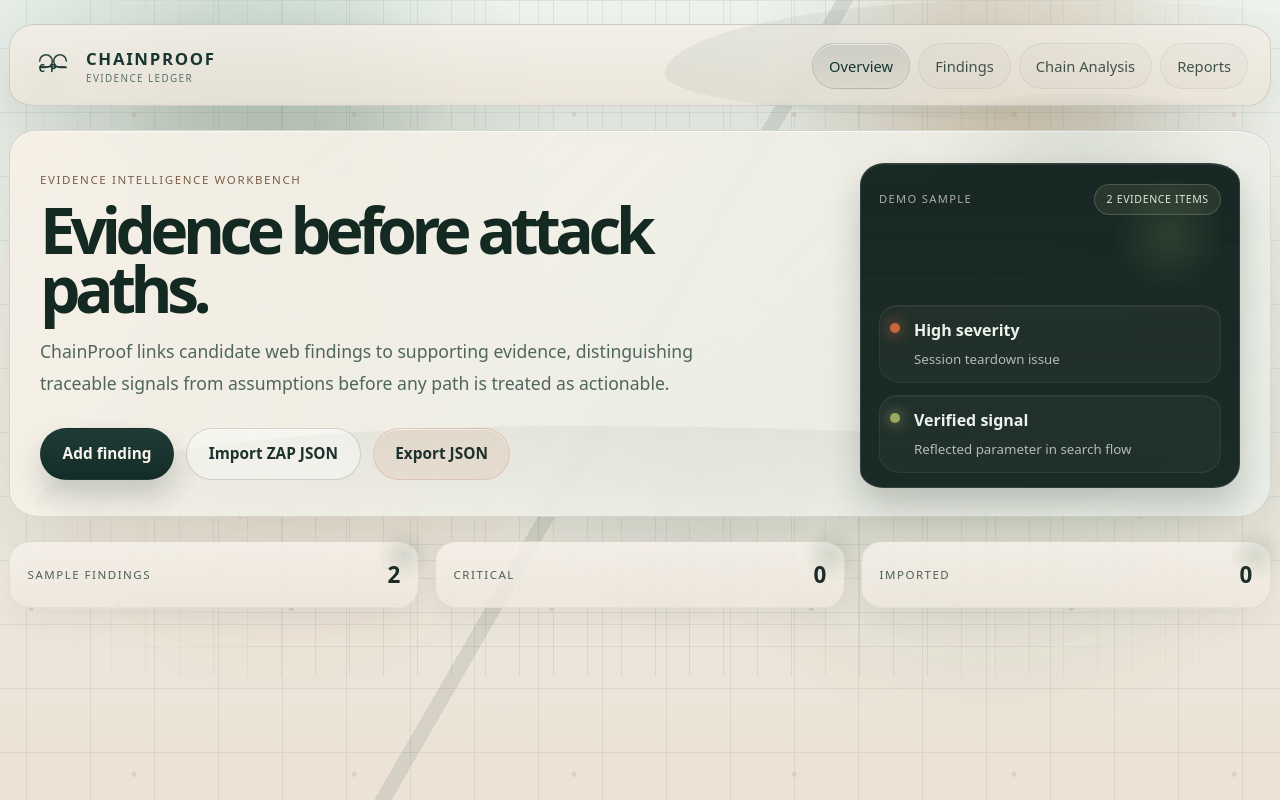
Test: App › adds a new finding to the findings list
Click the button "Add finding".
click(107, 454)  # box x1=40 y1=428 x2=174 y2=480
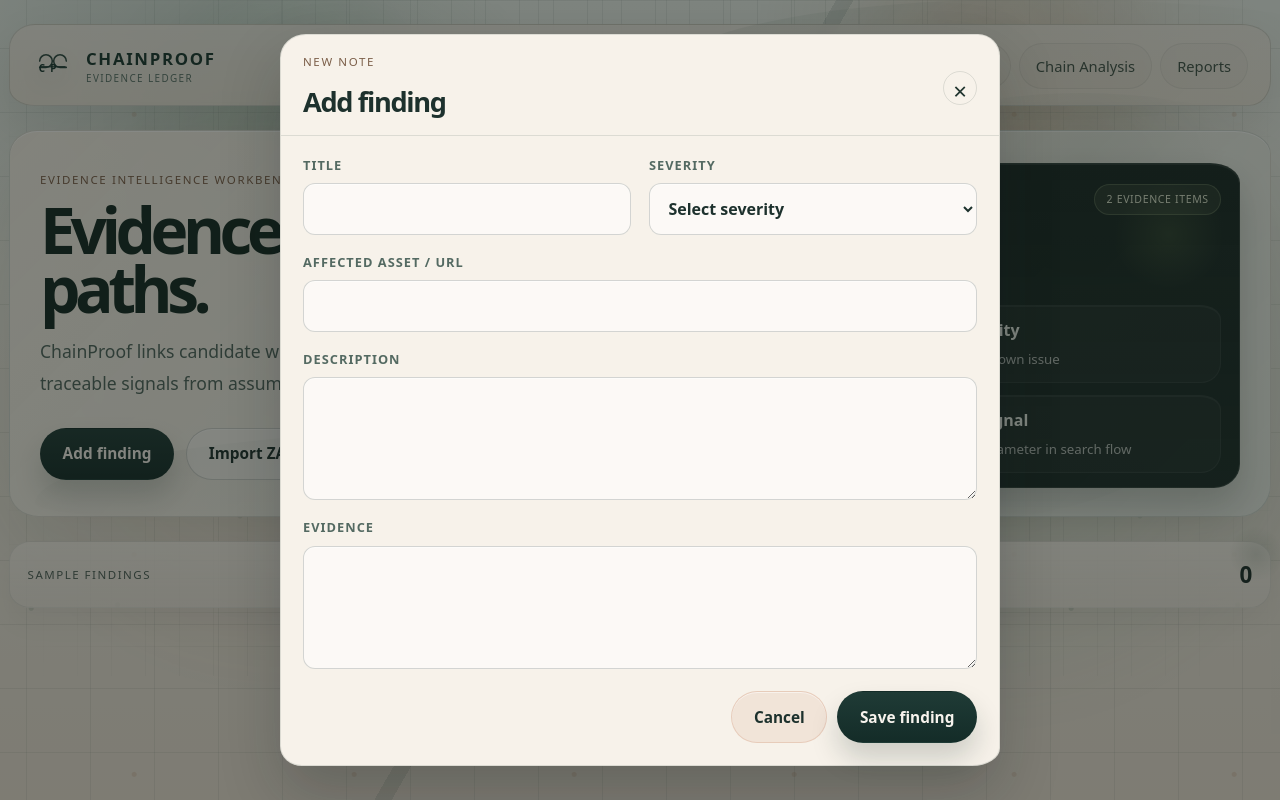
Type "DOM XSS in search" into the field labelled "Title".
click(467, 209); type("DOM XSS in search")  # box x1=303 y1=183 x2=631 y2=235
Select "High" in the dropdown labelled "Severity" at {"x": 813, "y": 209}, box x1=649 y1=183 x2=977 y2=235
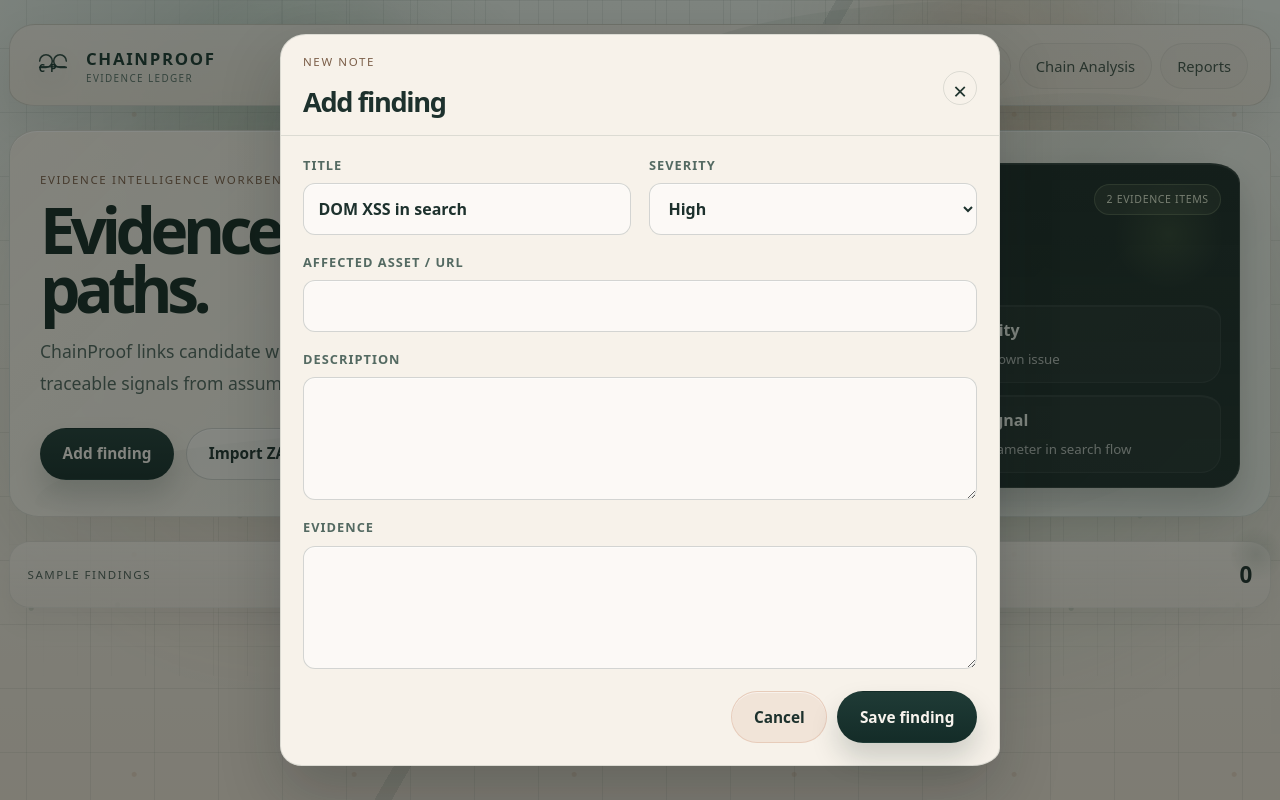
Type "https://app.example.com/search" into the field labelled "Affected asset / URL".
click(640, 306); type("https://app.example.com/search")  # box x1=303 y1=280 x2=977 y2=332
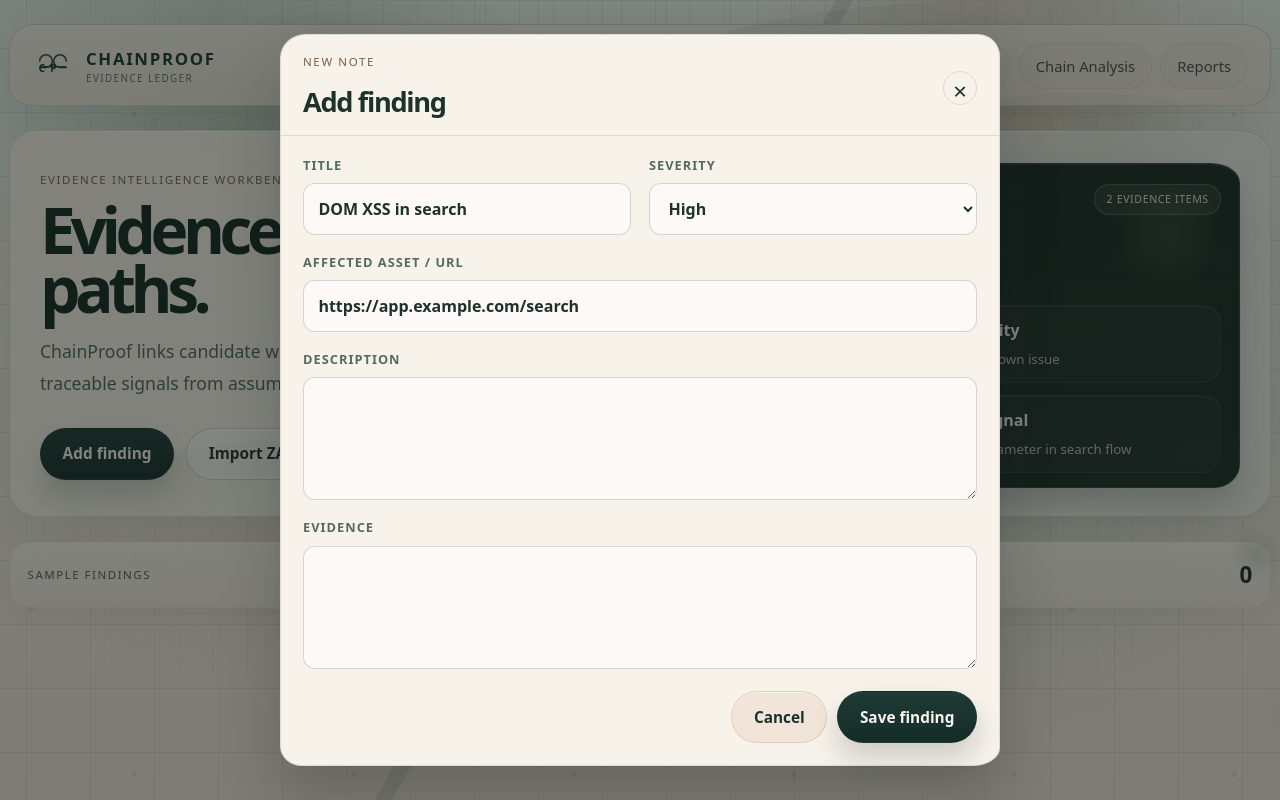
Type "Reflected payload in the query string supplied by the user." into the text box labelled "Description".
click(640, 439); type("Reflected payload in the query string supplied by the user.")  # box x1=303 y1=377 x2=977 y2=500
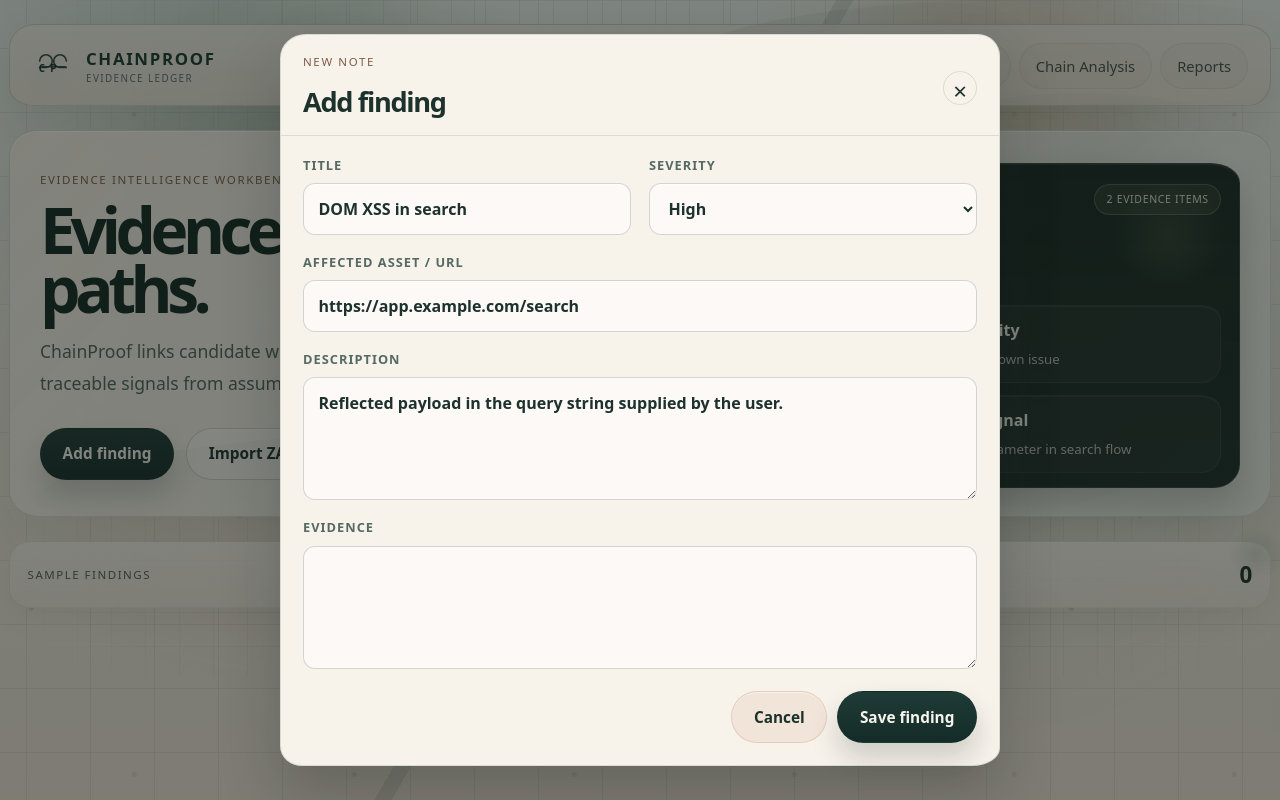
Type "Captured request demonstrates a reflected parameter in the rendered page." into the text box labelled "Evidence".
click(640, 607); type("Captured request demonstrates a reflected parameter in the rendered page.")  # box x1=303 y1=546 x2=977 y2=669
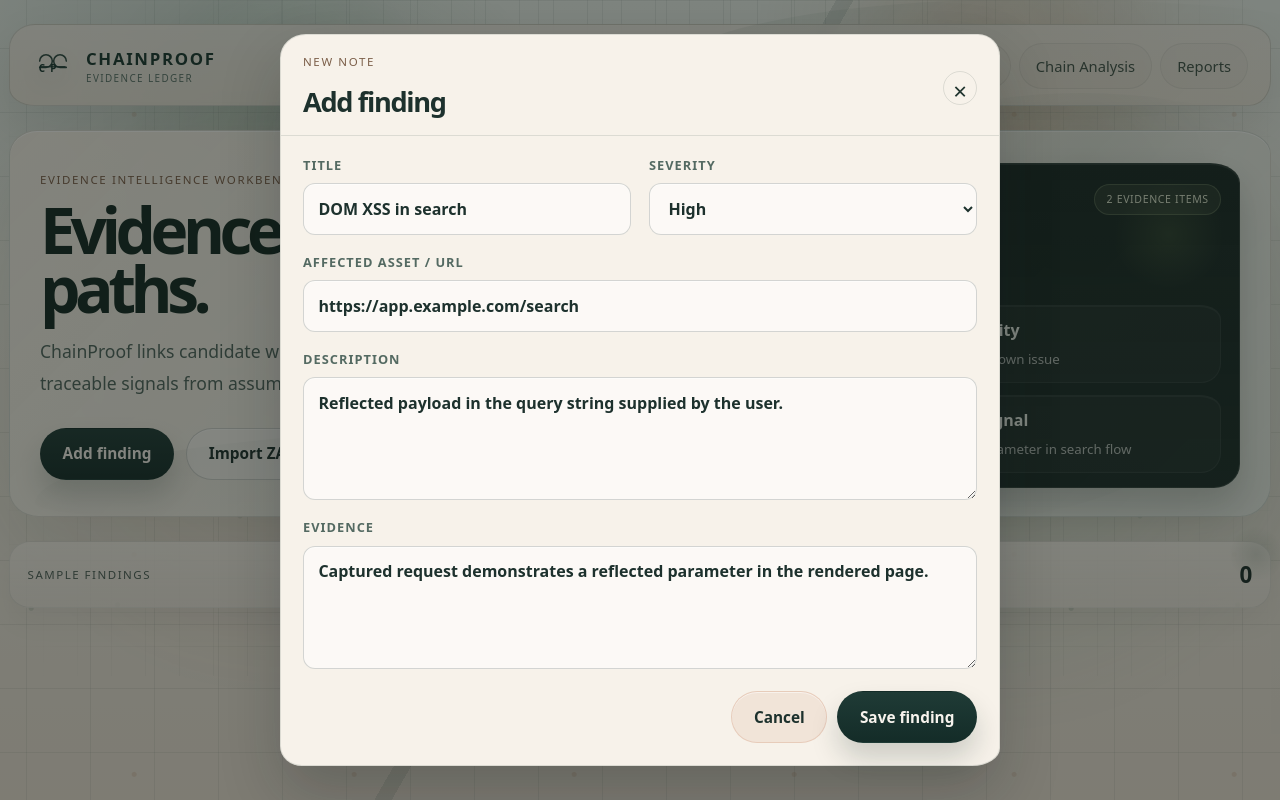
Click the button "Save finding".
click(907, 717)  # box x1=837 y1=691 x2=977 y2=743
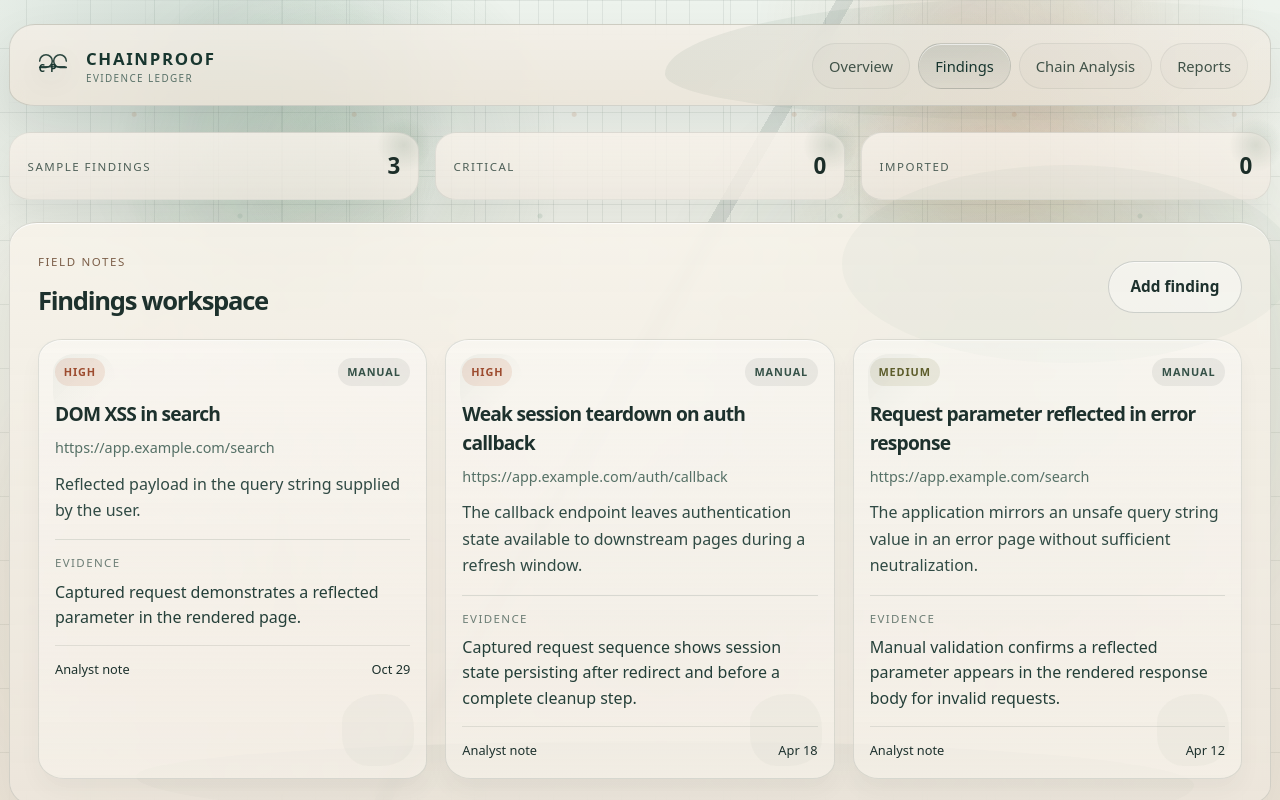
Check: the heading "DOM XSS in search" is shown, box x1=55 y1=400 x2=220 y2=427
Check: the text "Captured request demonstrates a reflected parameter in the rendered page." is shown, box x1=55 y1=580 x2=410 y2=631
